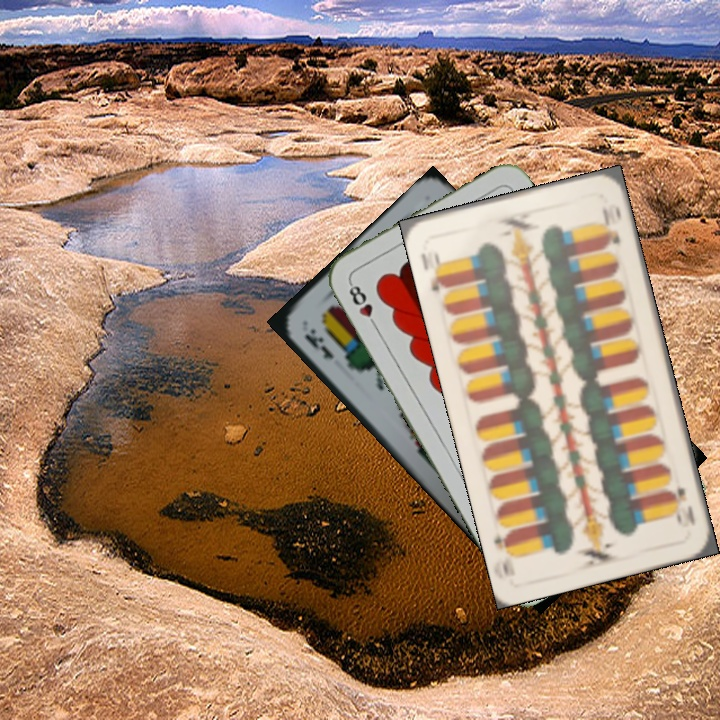E10: (666, 480, 698, 530), (426, 248, 451, 295)
EK: (300, 324, 337, 362)
H8: (344, 278, 381, 332)
